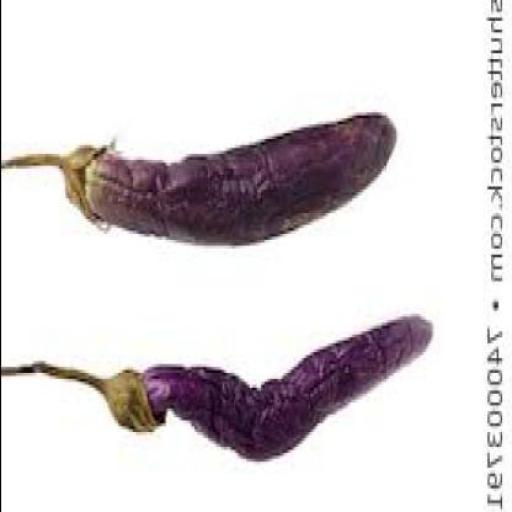biodegradable: (0, 314, 428, 459), (2, 110, 392, 246)
